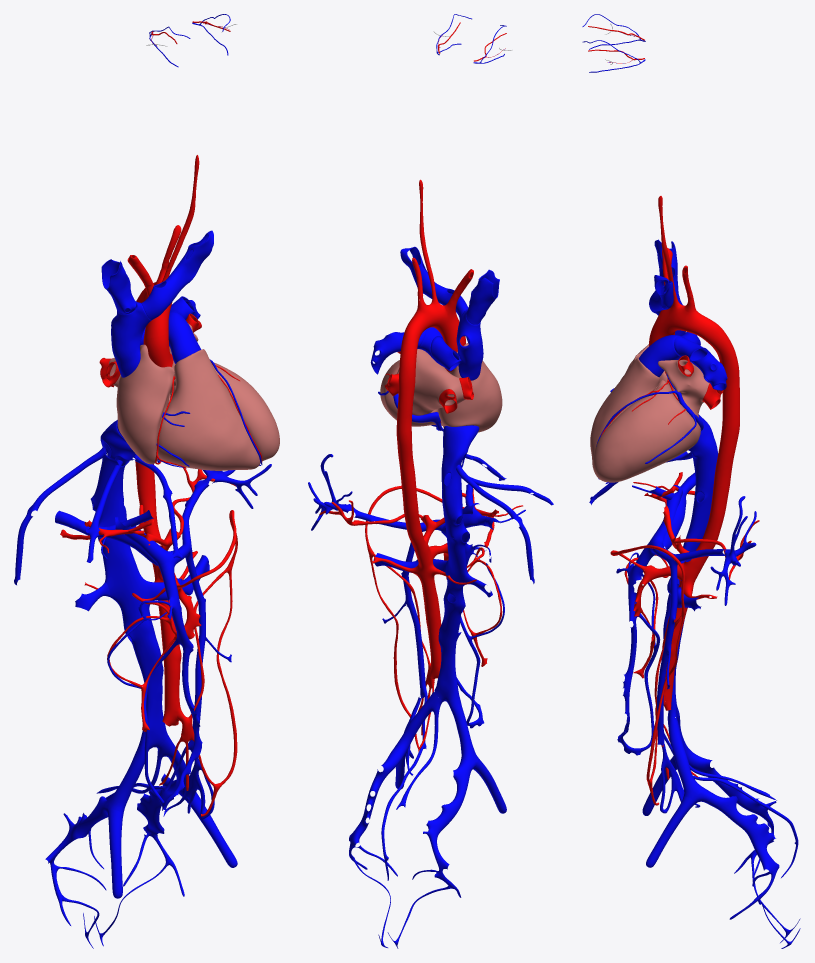
Rendered from cardiovascular-meshopt.glb.
3 renders of one model, left to right at view 1: azimuth 30°, elevation 25°; view 2: azimuth 150°, elevation 25°; view 3: azimuth 270°, elevation 25°, orthographic. The views are drawn at different scales.
Parts seen in each view (by area): view 1: VH_M_heart_right_ventricle, VH_M_inferior_vena_cava_b, VH_M_right_cardiac_atrium, VH_M_descending_aorta_b, VH_M_heart_left_ventricle, VH_M_superior_mesenteric_vein, VH_M_brachiocephalic_vein_L, VH_M_superior_vena_cava, VH_M_splenic_vein, VH_M_marginal_artery_of_Drummond, VH_M_inferior_vena_cava_a, VH_M_brachiocephalic_vein_R (+19 smaller); view 2: VH_M_inferior_vena_cava_b, VH_M_descending_aorta_b, VH_M_right_cardiac_atrium, VH_M_descending_aorta_a, VH_M_left_cardiac_atrium, VH_M_inferior_vena_cava_a, VH_M_aortic_arch, VH_M_internal_iliac_vein_R, VH_M_superior_vena_cava, VH_M_splenic_vein, VH_M_brachiocephalic_vein_L, VH_M_brachiocephalic_vein_R (+11 smaller); view 3: VH_M_heart_left_ventricle, VH_M_descending_aorta_a, VH_M_descending_aorta_b, VH_M_heart_right_ventricle, VH_M_inferior_vena_cava_b, VH_M_internal_iliac_vein_L, VH_M_aortic_arch, VH_M_splenic_vein, VH_M_superior_mesenteric_vein, VH_M_left_cardiac_atrium, VH_M_pulmonary_artery_L, VH_M_inferior_mesenteric_vein (+13 smaller).
Boxes of the visible parts, <box> form: VH_M_heart_right_ventricle: <box>156,349,260,470</box>; VH_M_inferior_vena_cava_b: <box>90,471,167,749</box>; VH_M_right_cardiac_atrium: <box>116,344,174,464</box>; VH_M_descending_aorta_b: <box>135,459,181,726</box>; VH_M_heart_left_ventricle: <box>170,362,279,460</box>; VH_M_superior_mesenteric_vein: <box>157,562,202,808</box>; VH_M_brachiocephalic_vein_L: <box>141,230,213,320</box>; VH_M_superior_vena_cava: <box>111,301,151,377</box>; VH_M_splenic_vein: <box>169,464,271,565</box>; VH_M_marginal_artery_of_Drummond: <box>178,510,237,816</box>; VH_M_inferior_vena_cava_a: <box>100,420,138,480</box>; VH_M_brachiocephalic_vein_R: <box>101,259,136,314</box>; VH_M_inferior_vena_cava_b: <box>434,487,469,703</box>; VH_M_descending_aorta_b: <box>401,484,441,678</box>; VH_M_right_cardiac_atrium: <box>437,343,502,432</box>; VH_M_descending_aorta_a: <box>396,342,417,487</box>; VH_M_left_cardiac_atrium: <box>397,349,465,415</box>; VH_M_inferior_vena_cava_a: <box>441,425,479,491</box>; VH_M_aortic_arch: <box>402,303,464,347</box>; VH_M_internal_iliac_vein_R: <box>423,758,473,879</box>; VH_M_superior_vena_cava: <box>456,309,483,380</box>; VH_M_splenic_vein: <box>308,454,445,531</box>; VH_M_brachiocephalic_vein_L: <box>400,246,468,319</box>; VH_M_brachiocephalic_vein_R: <box>466,269,499,324</box>; VH_M_heart_left_ventricle: <box>593,380,700,482</box>; VH_M_descending_aorta_a: <box>712,333,739,486</box>; VH_M_descending_aorta_b: <box>661,483,729,710</box>; VH_M_heart_right_ventricle: <box>590,358,659,473</box>; VH_M_inferior_vena_cava_b: <box>663,467,715,718</box>; VH_M_internal_iliac_vein_L: <box>699,787,779,877</box>; VH_M_aortic_arch: <box>651,304,724,346</box>; VH_M_splenic_vein: <box>649,496,756,605</box>; VH_M_superior_mesenteric_vein: <box>617,542,655,749</box>; VH_M_left_cardiac_atrium: <box>658,360,709,417</box>; VH_M_pulmonary_artery_L: <box>674,336,727,390</box>; VH_M_inferior_mesenteric_vein: <box>657,559,677,745</box>.
Bounding box in the file's own units: 0.2362 × 0.8718 × 0.1874.
